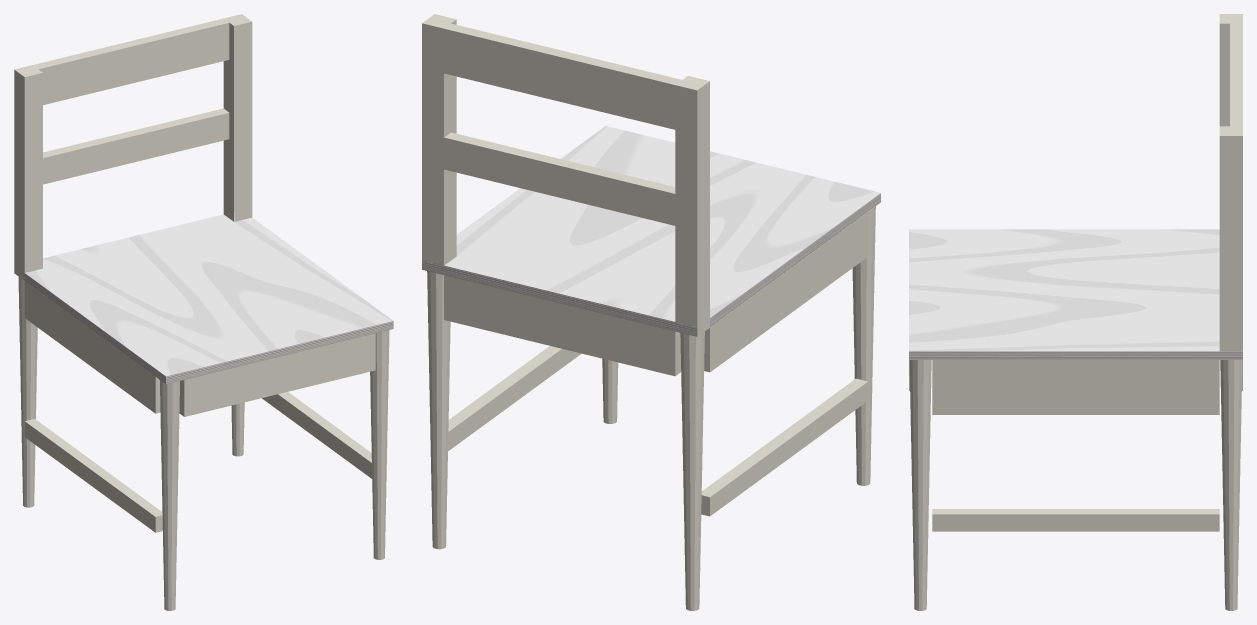
File: LIT-DCH-std.glb
3 renders of one model, left to right at view 1: azimuth 30°, elevation 25°; view 2: azimuth 150°, elevation 25°; view 3: azimuth 270°, elevation 25°, orthographic. The views are drawn at different scales.
Parts seen in each view (by area): view 1: seat:sheet:eyJtIjoicGx5Iiwic2lkZSI6ImZhY2UiLCJzZWVkIjo2LCJ2Z, leg-bl:pbr, back-top:pbr, rail-f:pbr, leg-br:pbr, back-mid:pbr, rail-l:pbr, leg-fl:pbr, stretcher-l:pbr, leg-fr:pbr, stretcher-r:pbr, seat:sheet:eyJtIjoicGx5Iiwic2lkZSI6ImVkZ2UtZW5kIiwic2VlZCI6N (+1 smaller); view 2: seat:sheet:eyJtIjoicGx5Iiwic2lkZSI6ImZhY2UiLCJzZWVkIjo2LCJ2Z, leg-bl:pbr, leg-br:pbr, back-top:pbr, rail-b:pbr, back-mid:pbr, rail-l:pbr, stretcher-l:pbr, leg-fl:pbr, stretcher-r:pbr, seat:sheet:eyJtIjoicGx5Iiwic2lkZSI6ImVkZ2UtZW5kIiwic2VlZCI6N, seat:sheet:eyJtIjoicGx5Iiwic2lkZSI6ImVkZ2UtbG9uZyIsInNlZWQiO (+1 smaller); view 3: seat:sheet:eyJtIjoicGx5Iiwic2lkZSI6ImZhY2UiLCJzZWVkIjo2LCJ2Z, rail-r:pbr, leg-br:pbr, stretcher-r:pbr, leg-fr:pbr, stretcher-l:pbr, seat:sheet:eyJtIjoicGx5Iiwic2lkZSI6ImVkZ2UtbG9uZyIsInNlZWQiO, leg-bl:pbr, back-top:pbr.
Boxes of the visible parts, box(x1,y1,x2,y2) form: seat:sheet:eyJtIjoicGx5Iiwic2lkZSI6ImZhY2UiLCJzZWVkIjo2LCJ2Z: box(25, 212, 393, 376); leg-bl:pbr: box(14, 65, 42, 507); back-top:pbr: box(33, 18, 229, 104); rail-f:pbr: box(179, 333, 375, 416); leg-br:pbr: box(223, 14, 252, 456); back-mid:pbr: box(43, 108, 229, 184); rail-l:pbr: box(24, 281, 160, 413); leg-fl:pbr: box(160, 380, 179, 610); stretcher-l:pbr: box(24, 419, 162, 532); leg-fr:pbr: box(370, 330, 389, 559); stretcher-r:pbr: box(262, 392, 372, 478); seat:sheet:eyJtIjoicGx5Iiwic2lkZSI6ImVkZ2UtZW5kIiwic2VlZCI6N: box(166, 321, 393, 384); seat:sheet:eyJtIjoicGx5Iiwic2lkZSI6ImZhY2UiLCJzZWVkIjo2LCJ2Z: box(444, 126, 880, 321); leg-bl:pbr: box(675, 76, 709, 610); leg-br:pbr: box(422, 14, 456, 549); back-top:pbr: box(444, 23, 681, 129); rail-b:pbr: box(444, 275, 681, 376); back-mid:pbr: box(444, 132, 675, 225); rail-l:pbr: box(704, 212, 868, 372); stretcher-l:pbr: box(701, 378, 868, 516); leg-fl:pbr: box(852, 206, 875, 485); stretcher-r:pbr: box(448, 346, 581, 451); seat:sheet:eyJtIjoicGx5Iiwic2lkZSI6ImVkZ2UtZW5kIiwic2VlZCI6N: box(422, 260, 697, 336); seat:sheet:eyJtIjoicGx5Iiwic2lkZSI6ImVkZ2UtbG9uZyIsInNlZWQiO: box(710, 193, 880, 327); seat:sheet:eyJtIjoicGx5Iiwic2lkZSI6ImZhY2UiLCJzZWVkIjo2LCJ2Z: box(909, 229, 1219, 351); rail-r:pbr: box(932, 360, 1219, 400); leg-br:pbr: box(1219, 126, 1242, 610); stretcher-r:pbr: box(932, 509, 1219, 531); leg-fr:pbr: box(909, 360, 931, 610); stretcher-l:pbr: box(932, 401, 1219, 414); seat:sheet:eyJtIjoicGx5Iiwic2lkZSI6ImVkZ2UtbG9uZyIsInNlZWQiO: box(909, 351, 1242, 359); leg-bl:pbr: box(1219, 14, 1242, 126); back-top:pbr: box(1230, 23, 1242, 126).
Size of the model in its own units: 0.4501 by 0.82 by 0.52.
Materials: 15 (3 with a texture image).
